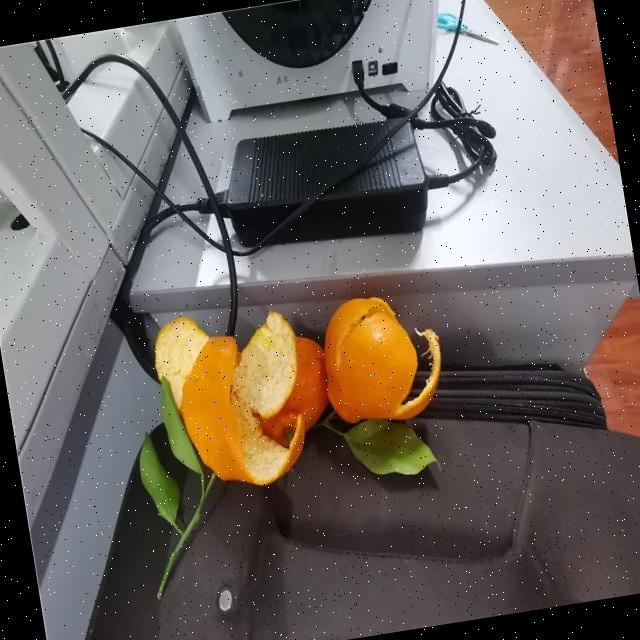orange-peel: (312, 284, 450, 432)
